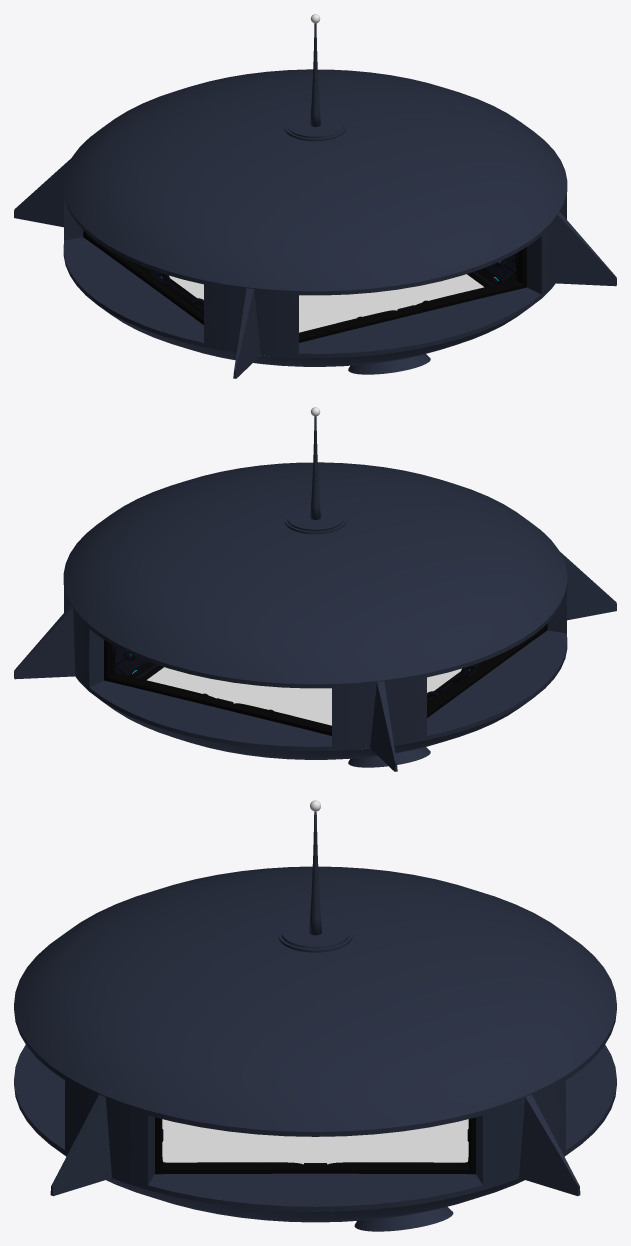
File: HoloCell 3.fbx
3 renders of one model, top to bottom at view 1: azimuth 30°, elevation 25°; view 2: azimuth 150°, elevation 25°; view 3: azimuth 270°, elevation 25°, orthographic. The views are drawn at different scales.
Visible parts, largest first — view 1: Sphere, window frames, wings, machinery, Floor & Ceiling, antenna stand, thrusters, cables thick.001, antenna; view 2: Sphere, window frames, wings, machinery, Floor & Ceiling, antenna stand, cables thick.001, thrusters, antenna; view 3: Sphere, window frames, Floor & Ceiling, wings, machinery, antenna stand, thrusters, cables thick.001, antenna.
Boxes of the visible parts, x1,y1,x2,y2 form: Sphere: (63,69,567,366); window frames: (63,189,567,357); wings: (14,159,616,378); machinery: (83,230,526,342); Floor & Ceiling: (169,274,483,356); antenna stand: (284,113,346,141); thrusters: (348,350,430,374); cables thick.001: (134,262,517,334); antenna: (310,23,320,126); Sphere: (63,462,567,759); window frames: (63,582,567,750); wings: (14,552,616,771); machinery: (104,623,547,735); Floor & Ceiling: (147,667,461,749); antenna stand: (284,506,346,534); cables thick.001: (113,655,496,727); thrusters: (348,743,430,767); antenna: (310,416,320,519); Sphere: (14,866,616,1222); window frames: (14,1006,616,1211); Floor & Ceiling: (162,1119,468,1164); wings: (50,1094,580,1196); machinery: (155,1117,475,1174); antenna stand: (278,918,352,952); thrusters: (354,1202,453,1231); cables thick.001: (161,1119,469,1164); antenna: (309,811,321,935).
Size of the model in its own units: 1664 by 1664 by 1113.
